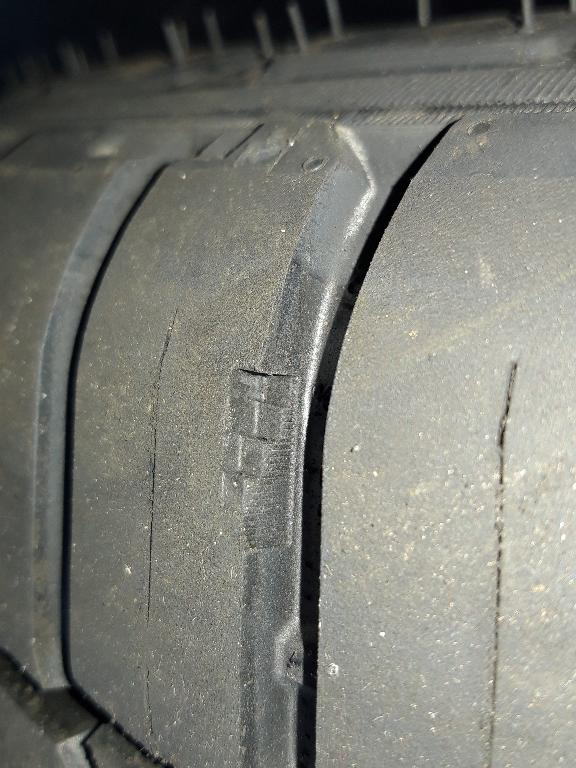temoin:75: (211, 359, 308, 524)
